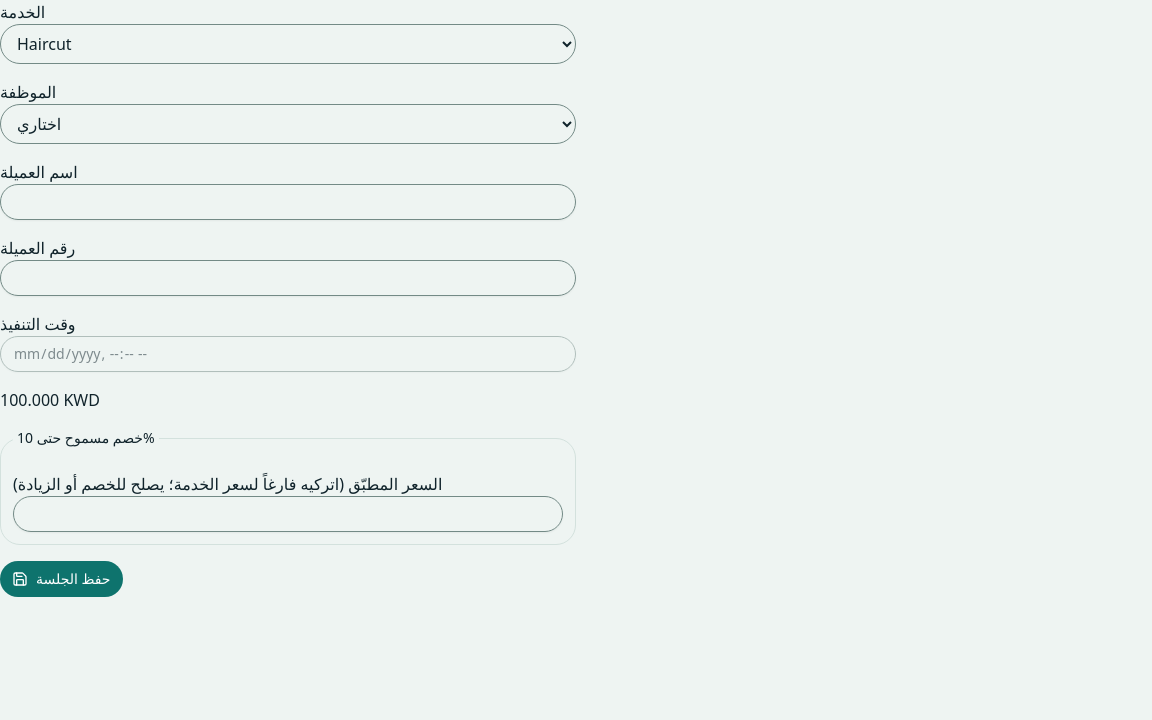
Test case: re-sends the same idempotency key with confirmDuplicate after the duplicate warning
Earlier steps of the test are not shown.
Step 1. Select "Huda" in the dropdown labelled "الموظفة" → [288, 124], box x1=0 y1=104 x2=576 y2=144
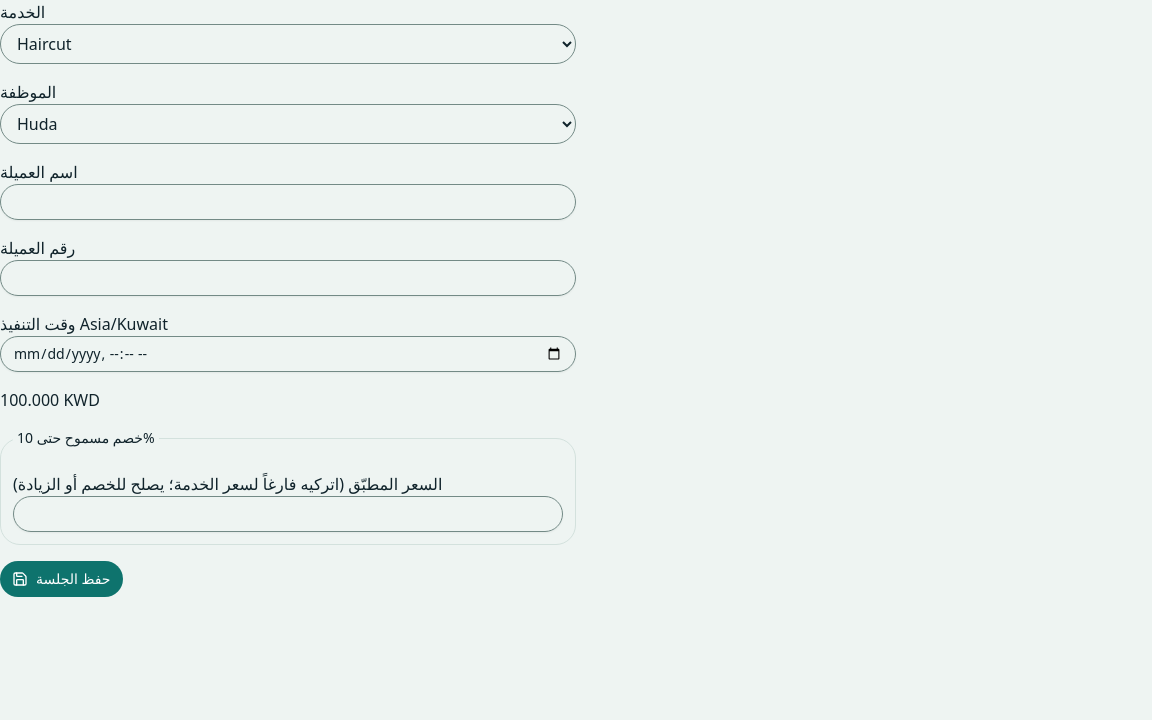
Step 2. Type "Noura" into the field labelled "اسم العميلة" → [288, 202], box x1=0 y1=184 x2=576 y2=220
Step 3. Type "96550001111" into the field labelled "رقم العميلة" → [288, 278], box x1=0 y1=260 x2=576 y2=296
Step 4. Type "2027-03-10T14:30" into the field labelled "وقت التنفيذ" → [288, 354], box x1=0 y1=336 x2=576 y2=372
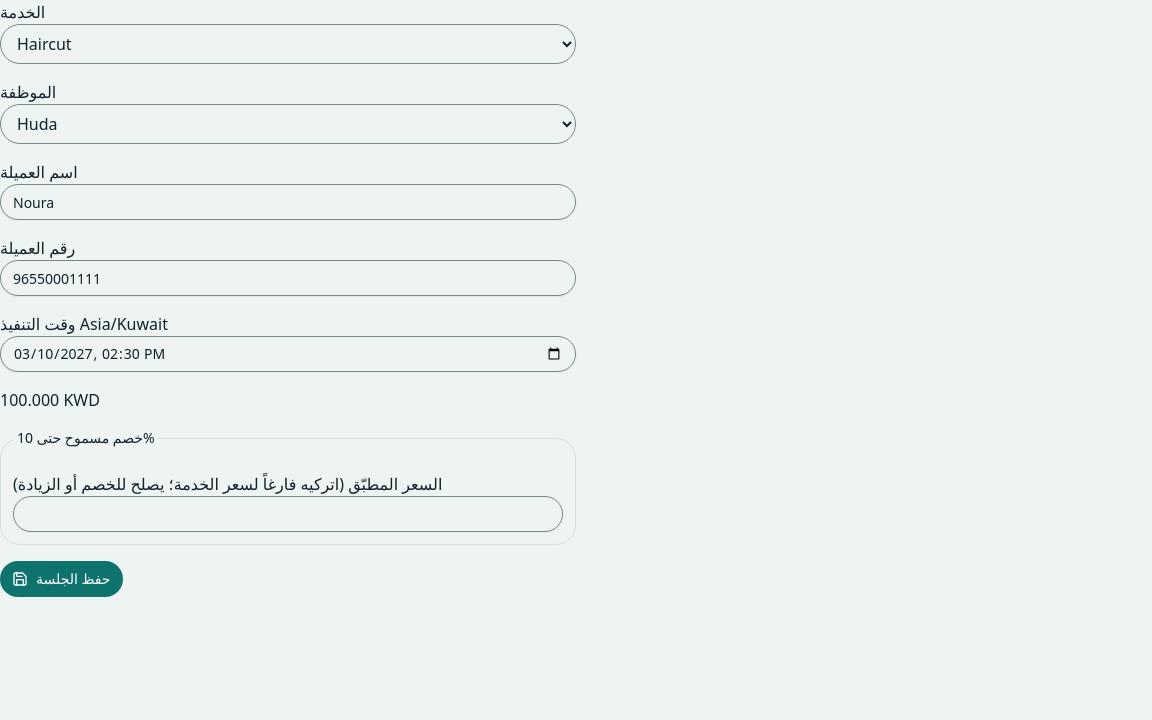
Step 5. Type "85.000" into the field labelled "السعر المطبّق (اتركيه فارغاً لسعر الخدمة؛ يصلح للخصم أو الزيادة)" → [288, 514], box x1=13 y1=496 x2=563 y2=532
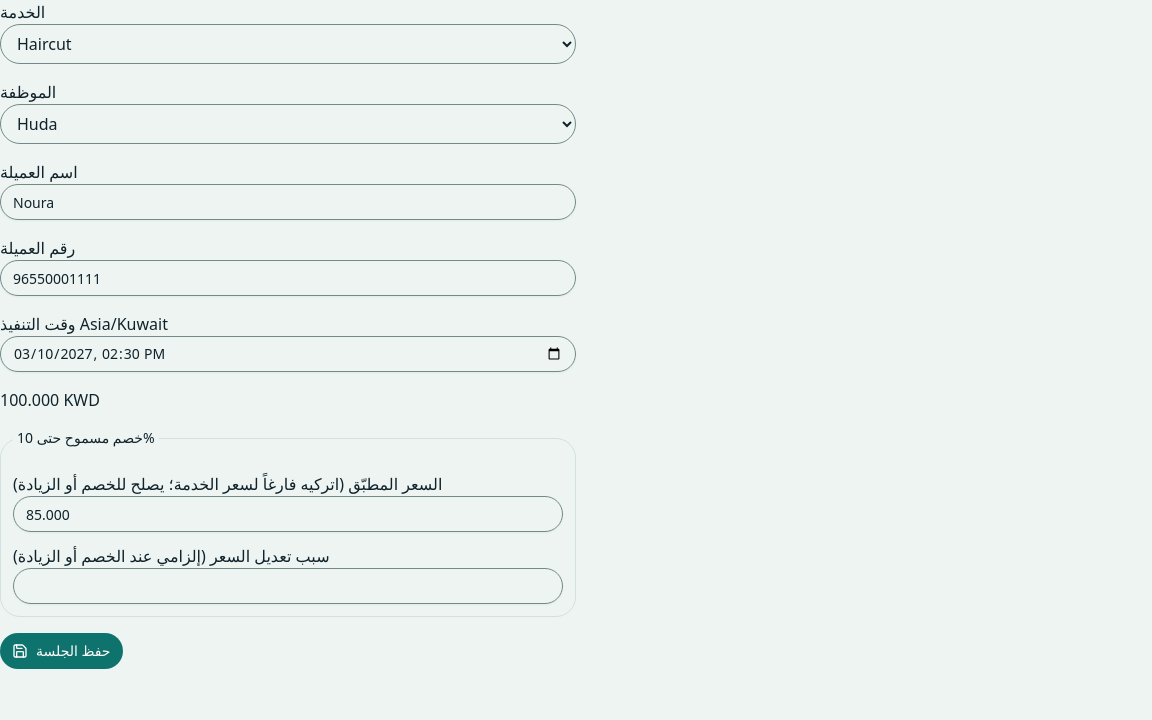
Step 6. Type "عرض العيد" into the field labelled "سبب تعديل السعر (إلزامي عند الخصم أو الزيادة)" → [288, 586], box x1=13 y1=568 x2=563 y2=604
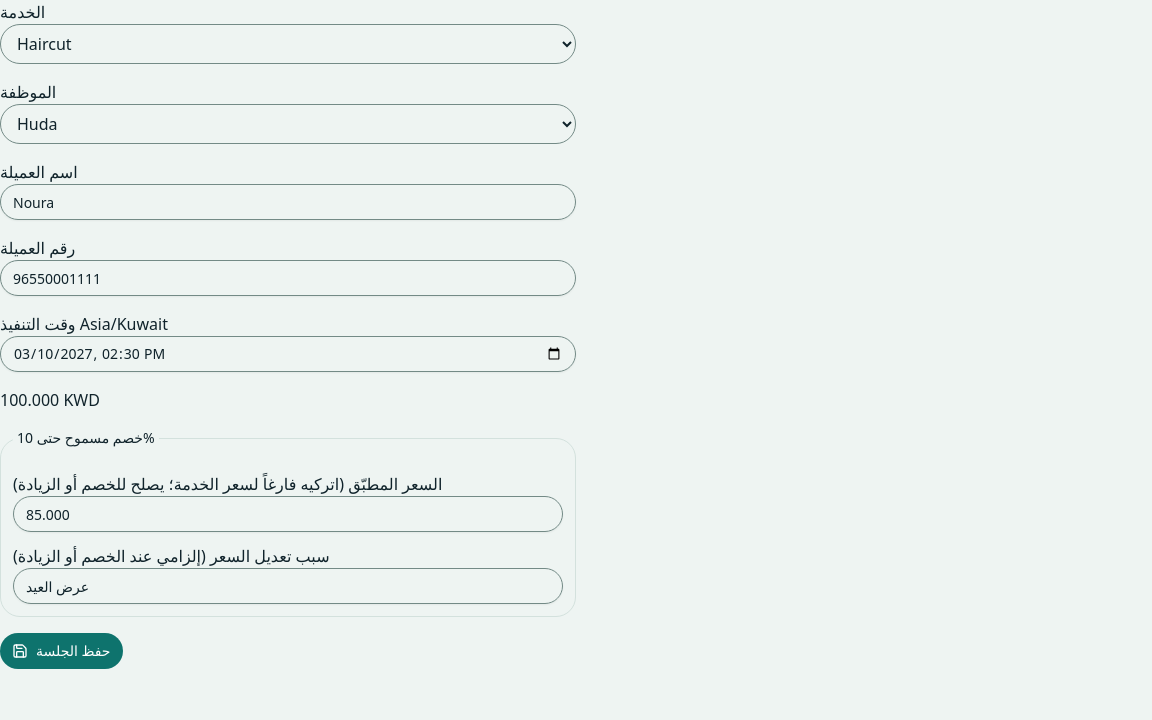
Step 7. Click the button "حفظ الجلسة" → [61, 651], box x1=0 y1=633 x2=122 y2=669
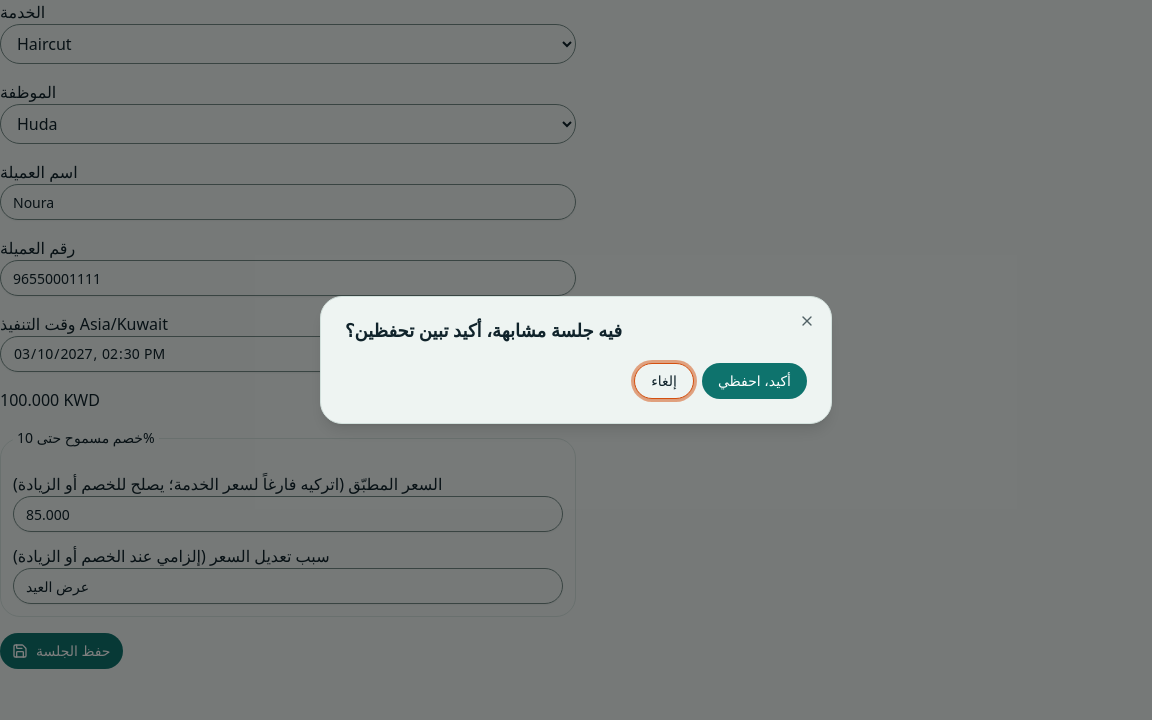
Check: the heading "فيه جلسة مشابهة، أكيد تبين تحفظين؟" is shown, box x1=345 y1=318 x2=622 y2=342
Step 8. Click the button "أكيد، احفظي" → [754, 381], box x1=702 y1=363 x2=807 y2=399
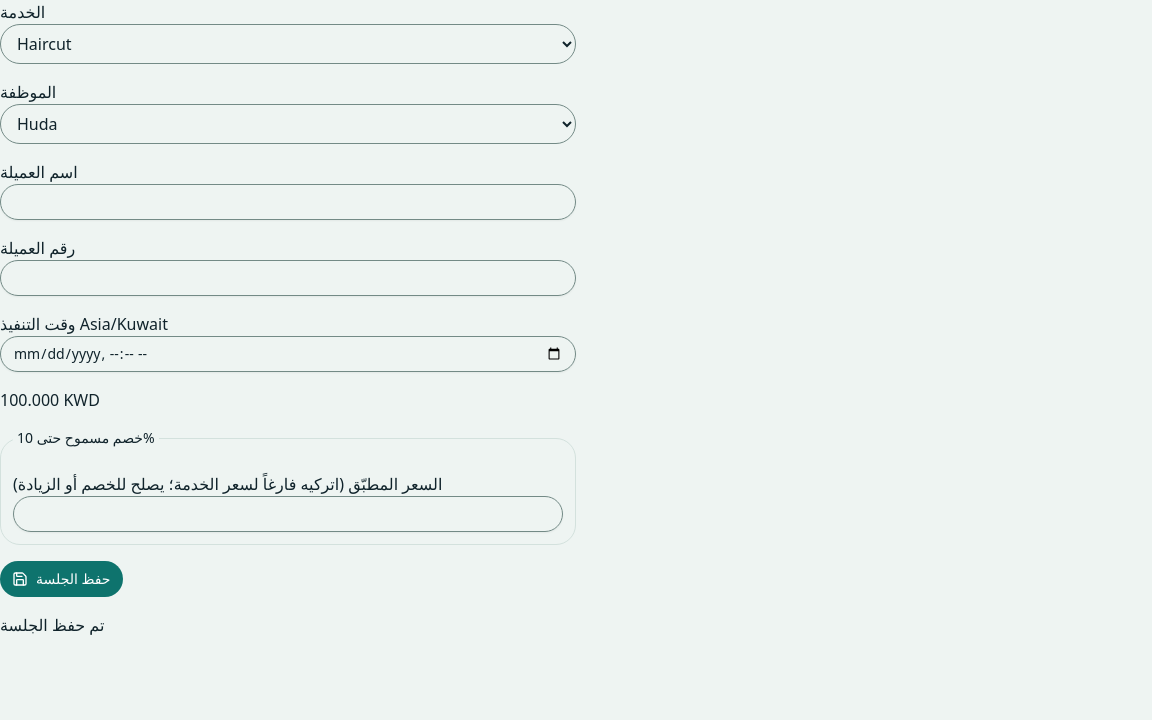
Check: the text "تم حفظ الجلسة" is shown, box x1=0 y1=614 x2=104 y2=636
